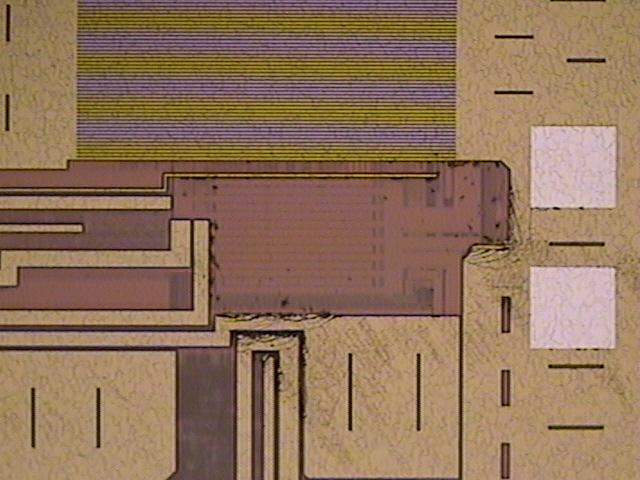SCRATCH: (177, 167, 640, 478)
